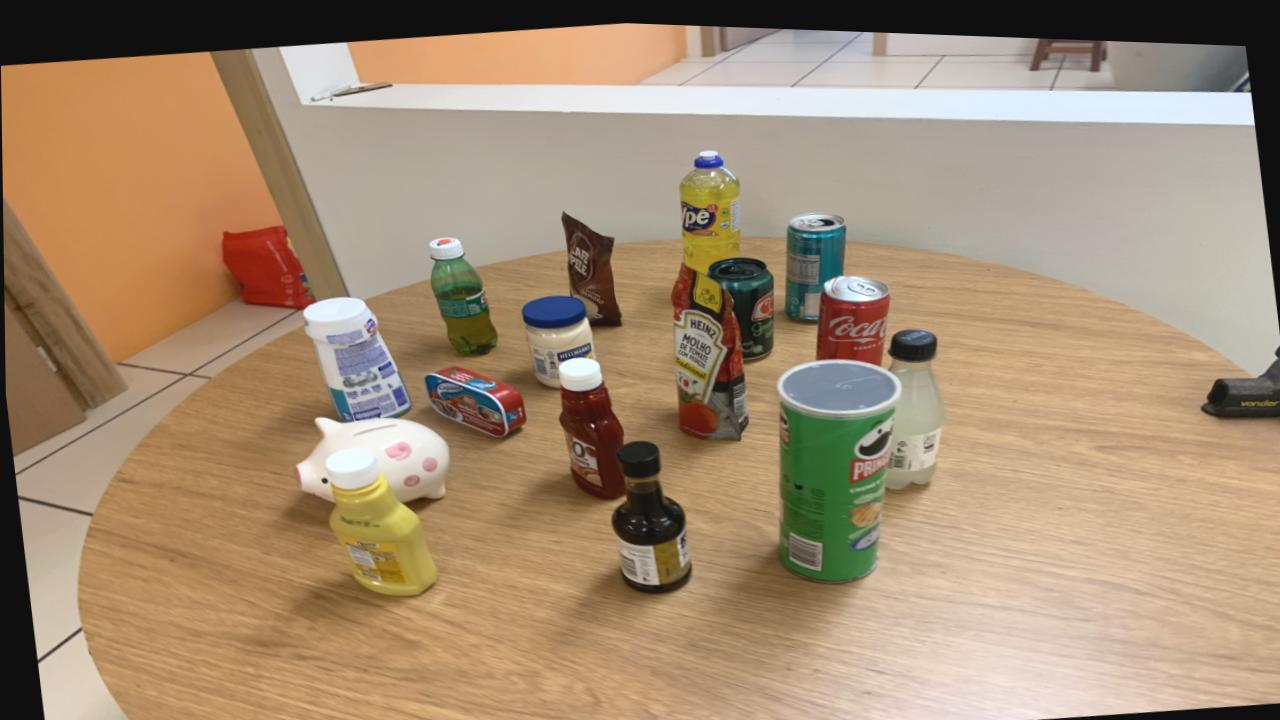Cleaner-Cleanup_Items: (303, 294, 409, 418)
Coffee-Pantry_Items: (560, 207, 621, 321)
Coke-Drinks: (815, 268, 890, 357)
Detergent-Cleanup_Items: (679, 145, 741, 267)
English_Sauce-Pantry_Items: (610, 435, 691, 588)
Guarana-Drinks: (428, 233, 497, 351)
Guarana_Can-Drinks: (706, 250, 774, 354)
Ketchup-Pantry_Items: (557, 351, 624, 495)
Mayonnaise-Pantry_Items: (520, 290, 594, 382)
Mustard-Pantry_Items: (323, 446, 436, 592)
Pig_Safe-Miscellaneous: (293, 414, 449, 499)
Pringles-Snacks: (775, 352, 901, 576)
Soda-Drinks: (883, 322, 944, 483)
Tea-Drinks: (783, 206, 847, 315)
Tomato_Sauce-Pantry_Items: (669, 259, 748, 434)
Tuna_Can-Pantry_Items: (423, 363, 526, 433)
